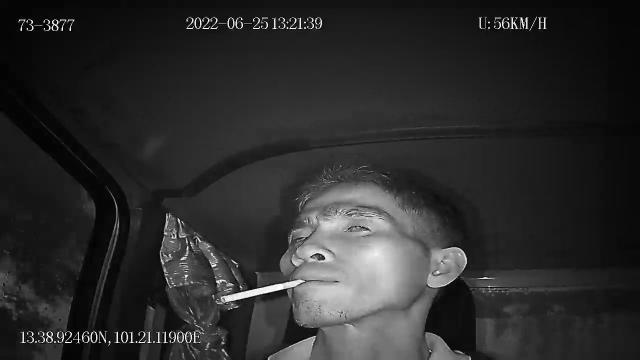SafeDriving: (336, 215, 381, 239)
Smoking: (220, 280, 304, 304)
